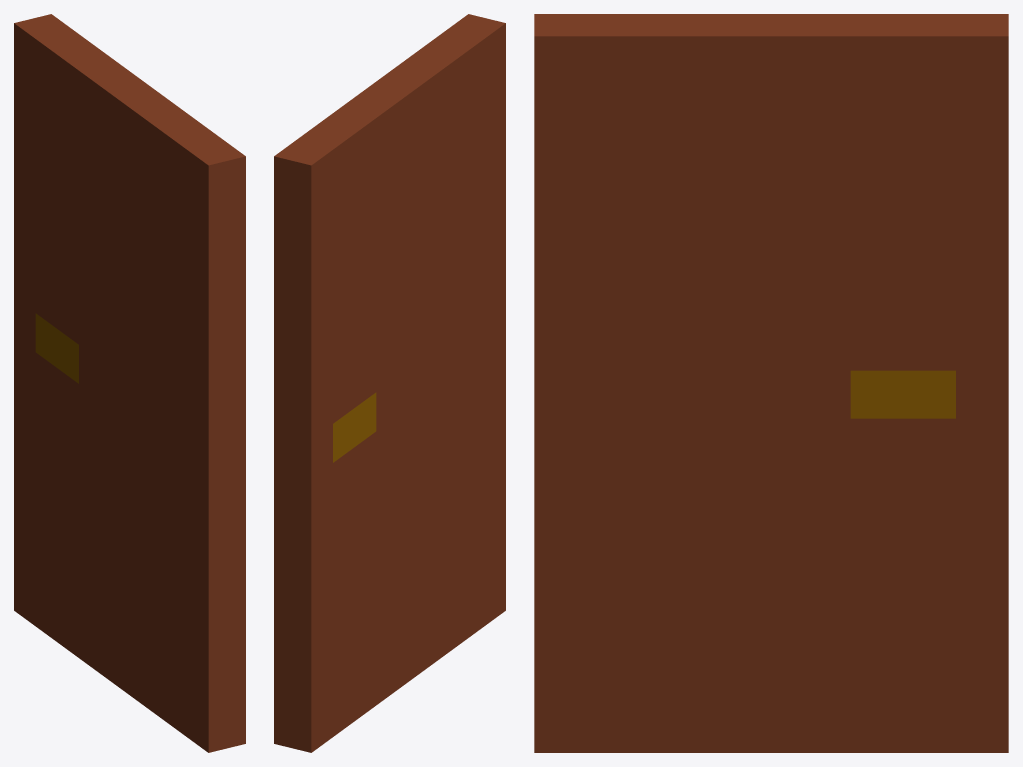
The model's file is Door Simple A.obj.
3 renders of one model, left to right at view 1: azimuth 30°, elevation 25°; view 2: azimuth 150°, elevation 25°; view 3: azimuth 270°, elevation 25°, orthographic. The views are drawn at different scales.
Visible parts, largest first — view 1: Door Simple A; view 2: Door Simple A; view 3: Door Simple A.
Part boxes in pixels (x1,y1,x2,y2): Door Simple A: [14, 14, 245, 752]; Door Simple A: [274, 14, 505, 752]; Door Simple A: [534, 14, 1008, 752].
Size of the model in its own units: 1 by 15 by 9.
